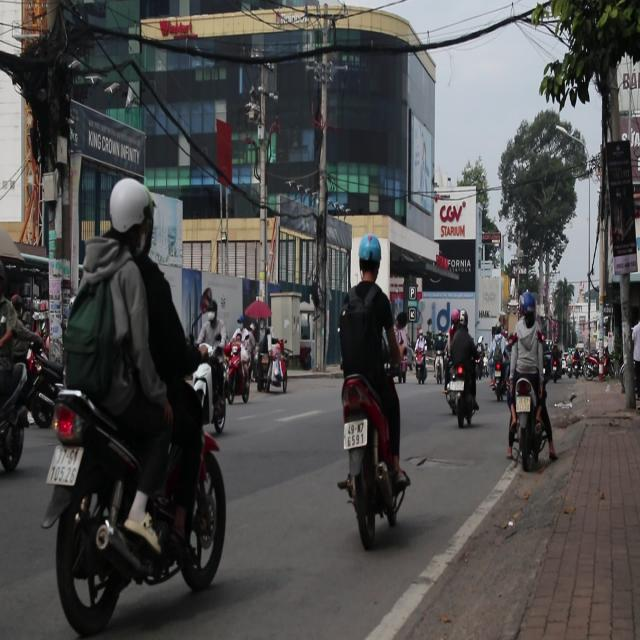motorbike: (40, 349, 231, 638), (334, 369, 409, 553), (0, 325, 47, 472), (510, 377, 554, 472), (26, 346, 64, 430), (224, 338, 250, 404), (458, 370, 474, 433), (441, 370, 458, 420), (493, 360, 511, 402), (414, 347, 427, 386), (584, 358, 602, 381), (573, 349, 585, 377)
